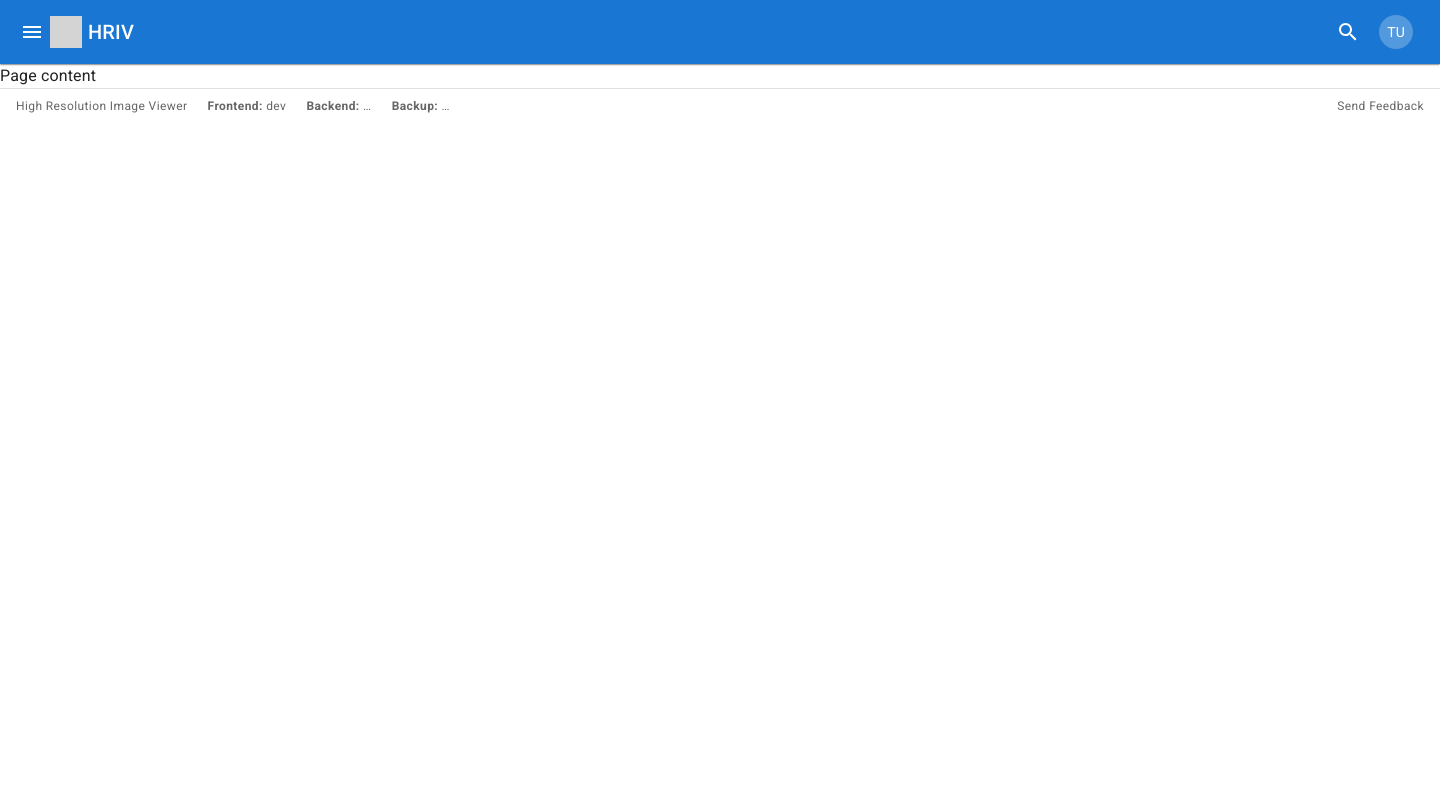
Test: AppShell › compact viewport navigation › exposes every destination, with Manage flattened, in the menu
Click the button named "Open navigation menu" at (32, 32), box [12,12,52,52]
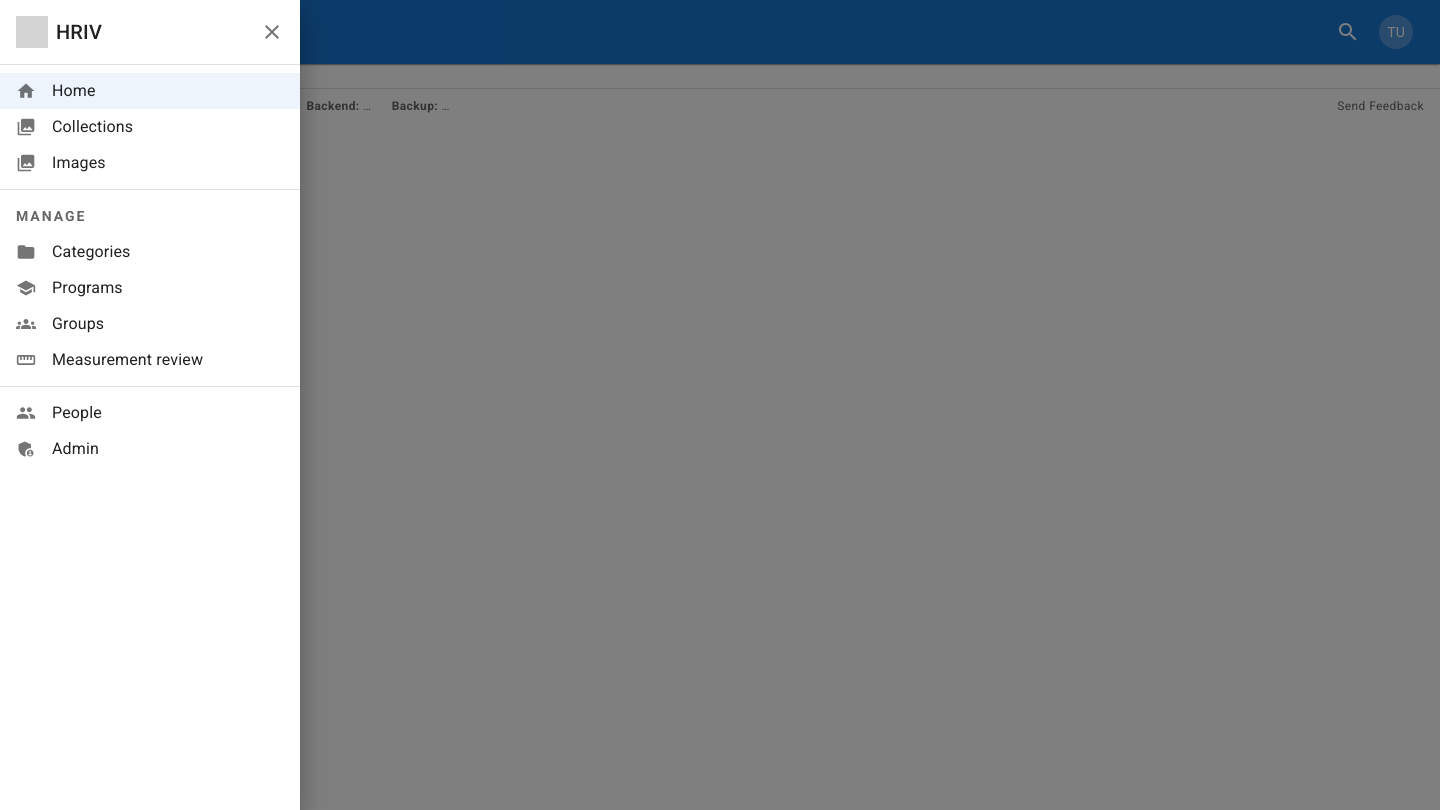
Expected: the number of menu items "Collections" is 1, [16,117,133,137]
Expected: the menu item "Home" is shown, [0,73,300,109]
Expected: the menu item "Images" is shown, [16,153,106,173]
